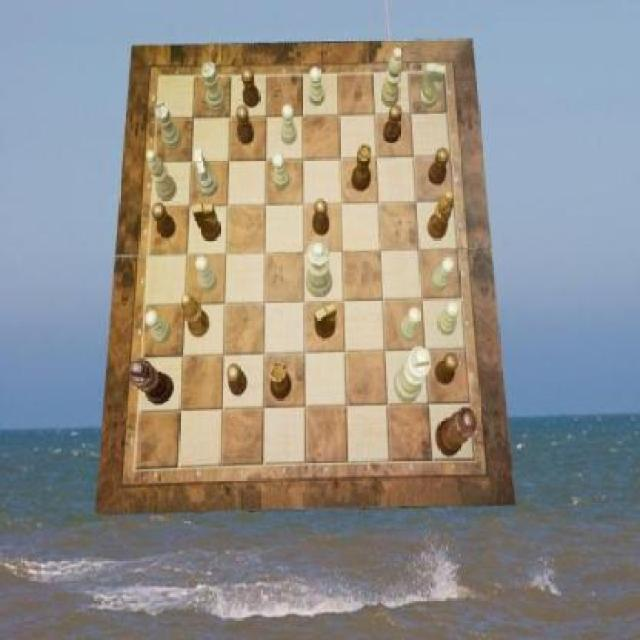bishop: (428, 189, 454, 240), (182, 294, 210, 338)
black-bishop: (129, 358, 174, 404)
black-king: (192, 203, 222, 241), (315, 302, 338, 339)
black-knight: (152, 203, 176, 239), (428, 146, 448, 184), (383, 106, 402, 145), (235, 106, 253, 146), (436, 354, 458, 386), (242, 69, 259, 108), (228, 365, 248, 397), (314, 200, 331, 236)
black-pawn: (435, 408, 478, 457)
black-queen: (352, 145, 372, 192), (269, 362, 292, 399)
black-rook: (146, 150, 177, 202), (381, 48, 404, 108)
white-bishop: (394, 346, 431, 402)
white-king: (418, 63, 446, 109), (194, 149, 218, 197)
white-knight: (144, 310, 170, 344), (430, 257, 454, 291), (438, 302, 461, 336), (400, 308, 422, 342), (196, 257, 217, 291), (272, 152, 290, 190), (282, 103, 298, 145), (310, 68, 326, 106)
white-pawn: (306, 240, 333, 298)
white-queen: (156, 103, 182, 151), (202, 63, 226, 112)
